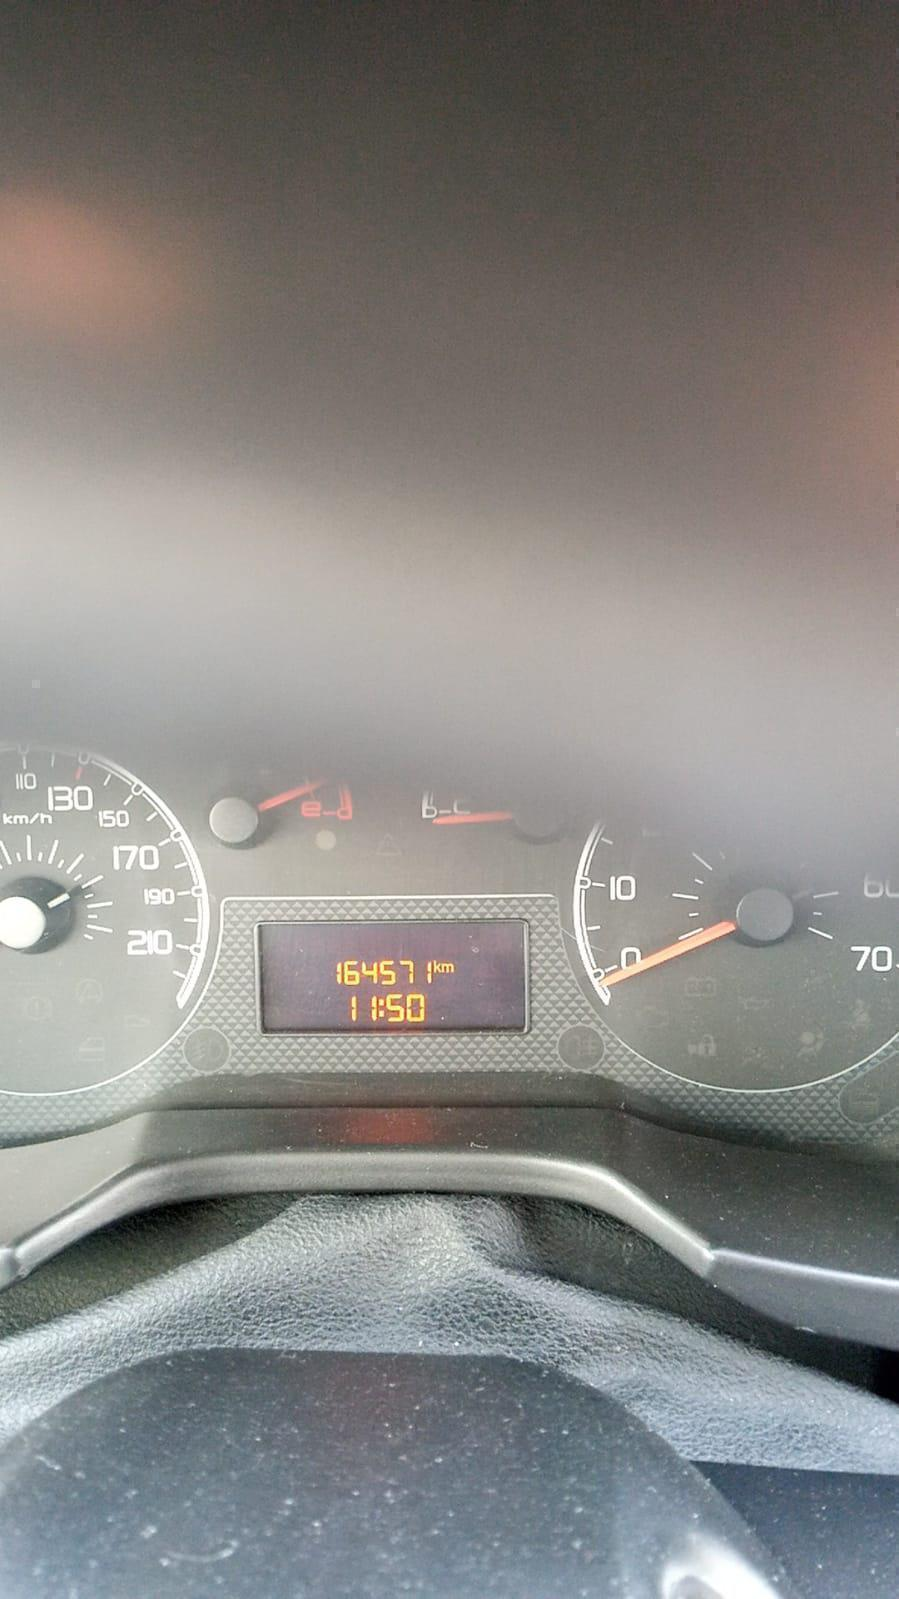0: (405, 992, 425, 1022)
1: (349, 993, 360, 1024), (370, 993, 378, 1022), (335, 959, 342, 985), (426, 960, 432, 985)
4: (361, 959, 379, 984)
5: (385, 992, 405, 1024), (379, 959, 396, 985)
6: (344, 958, 360, 986)
7: (400, 959, 415, 985)
X: (378, 997, 386, 1019), (441, 962, 456, 973), (434, 958, 441, 973)
odometer: (257, 919, 529, 1031)
